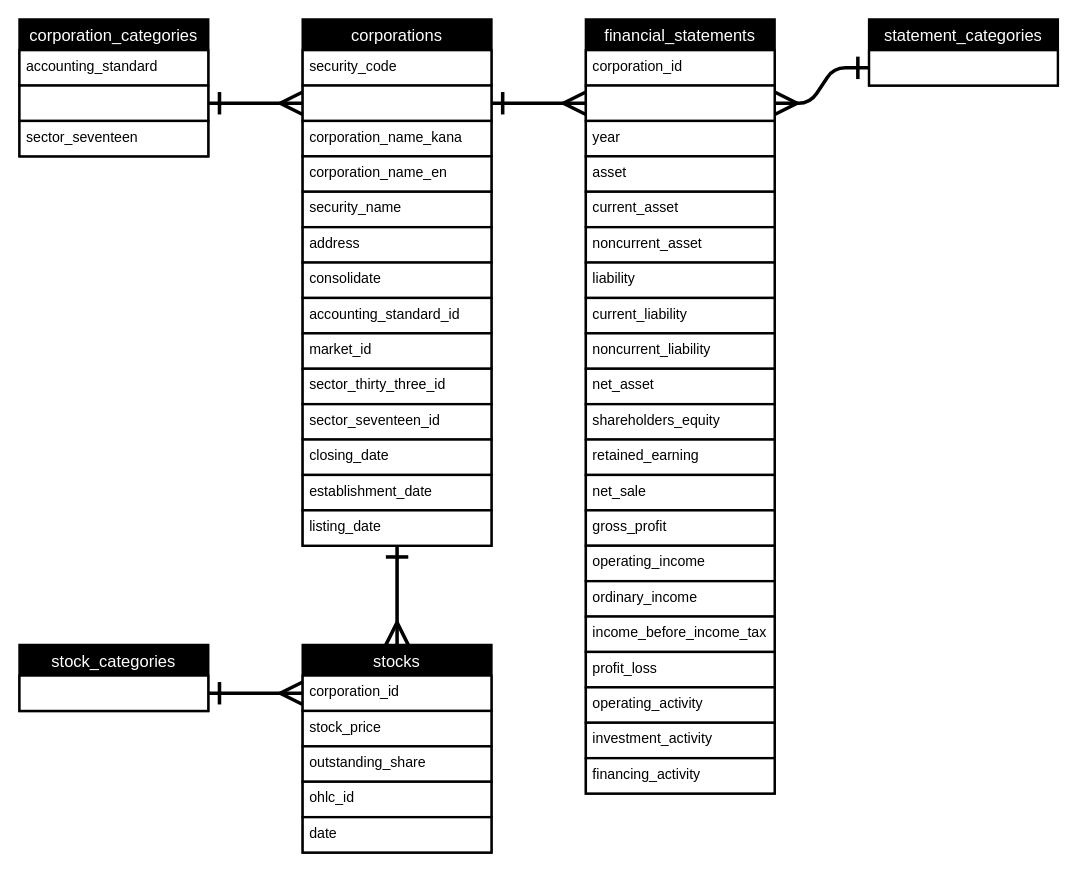
This 1077x872 diagram has some shape labels left out. Here are the shapes that lost their labels. From the top down, the centre of each, then its label:
At point (962, 67): "document".
At point (113, 103): "sector_thirty_three".
At point (396, 103): "corporation_name".
At point (679, 103): "document_id".
At point (113, 693): "ohlc".
